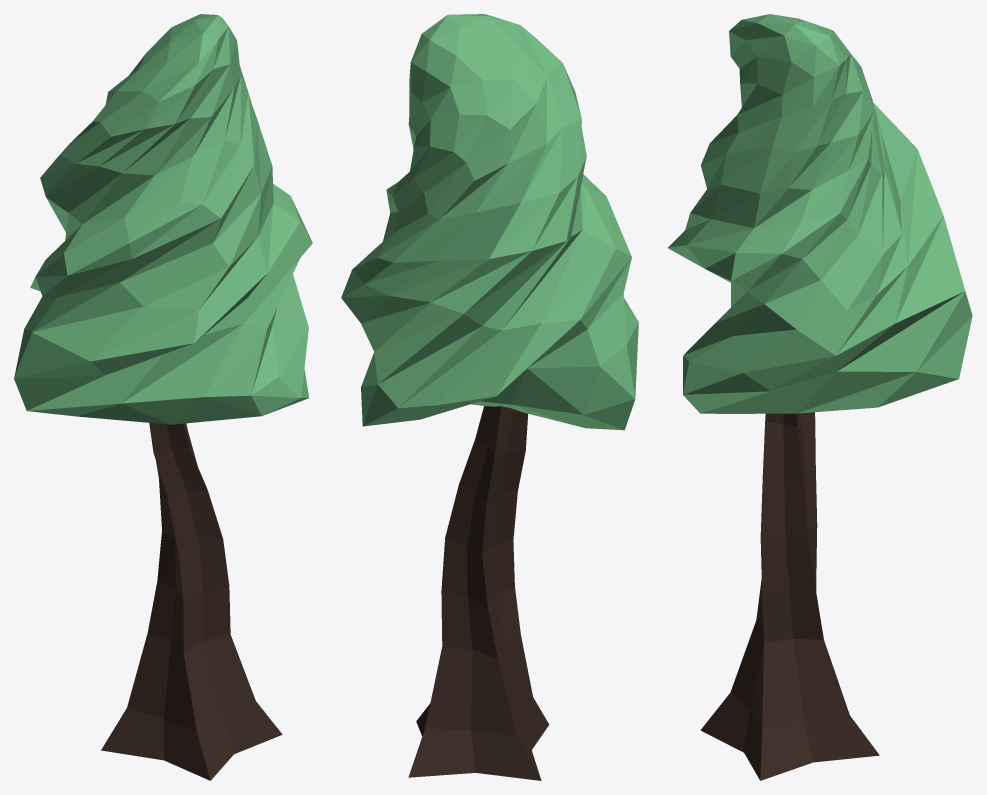
The model's file is Tree01.FBX.
3 views of the same model, side by side, from view 1: azimuth 30°, elevation 25°; view 2: azimuth 150°, elevation 25°; view 3: azimuth 270°, elevation 25° (orthographic).
Visible parts, largest first — view 1: Tree01; view 2: Tree01; view 3: Tree01.
Boxes of the visible parts, x1,y1,x2,y2 form: Tree01: (14,14,312,780); Tree01: (341,14,638,780); Tree01: (668,14,972,780).
Size of the model in its own units: 237 by 584 by 221.
Materials: 1 (1 with a texture image).
